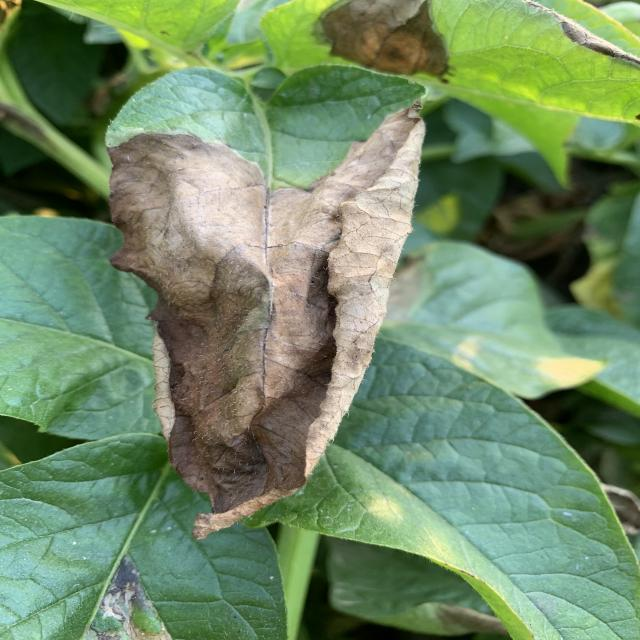lateblight: (108, 105, 425, 539), (322, 0, 448, 76), (523, 0, 640, 66)
